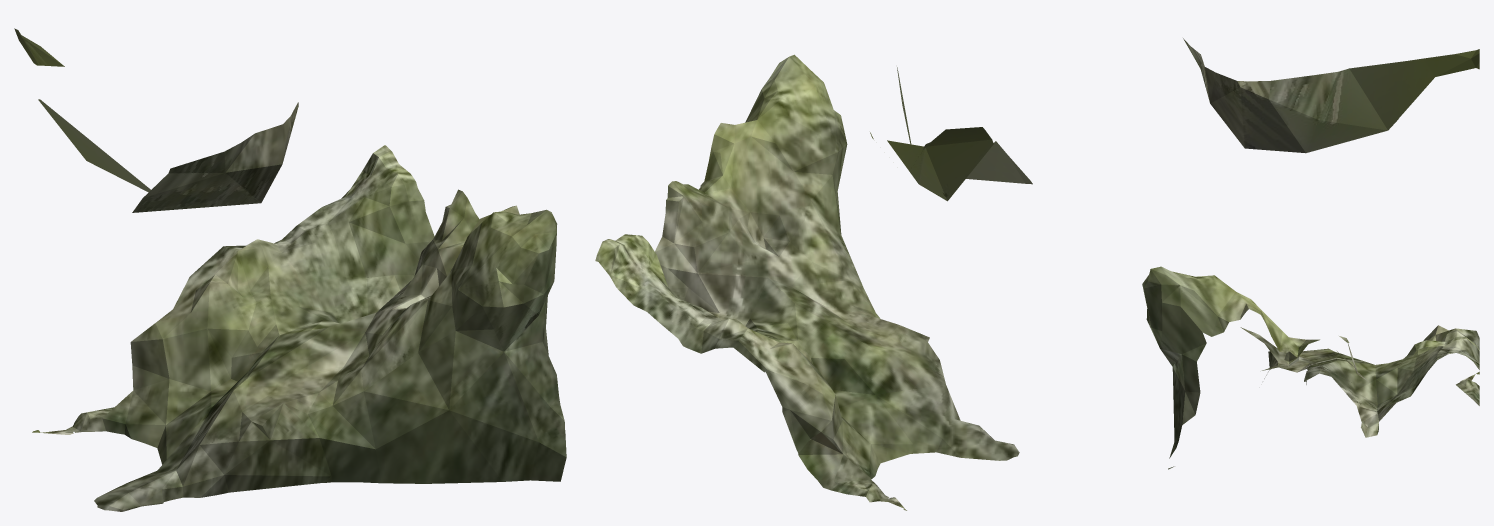
3 views of the same model, side by side, from view 1: azimuth 30°, elevation 25°; view 2: azimuth 150°, elevation 25°; view 3: azimuth 270°, elevation 25° (orthographic). The views are drawn at different scales.
Size of the model in its own units: 2.95 by 2.95 by 2.66.
Materials: 4 (4 with a texture image).
